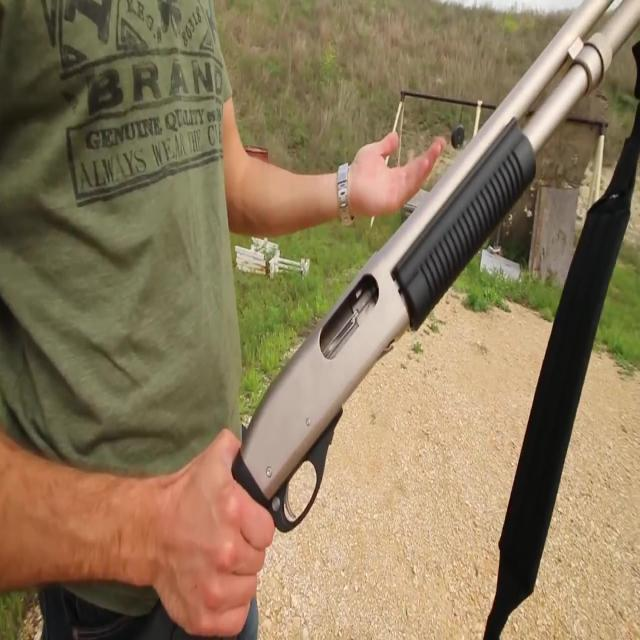Weapon: (58, 5, 640, 639)
